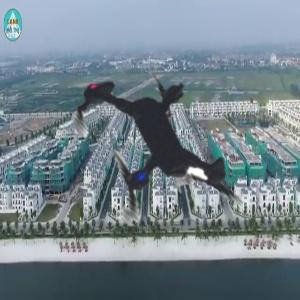drone: (8, 5, 296, 293)
